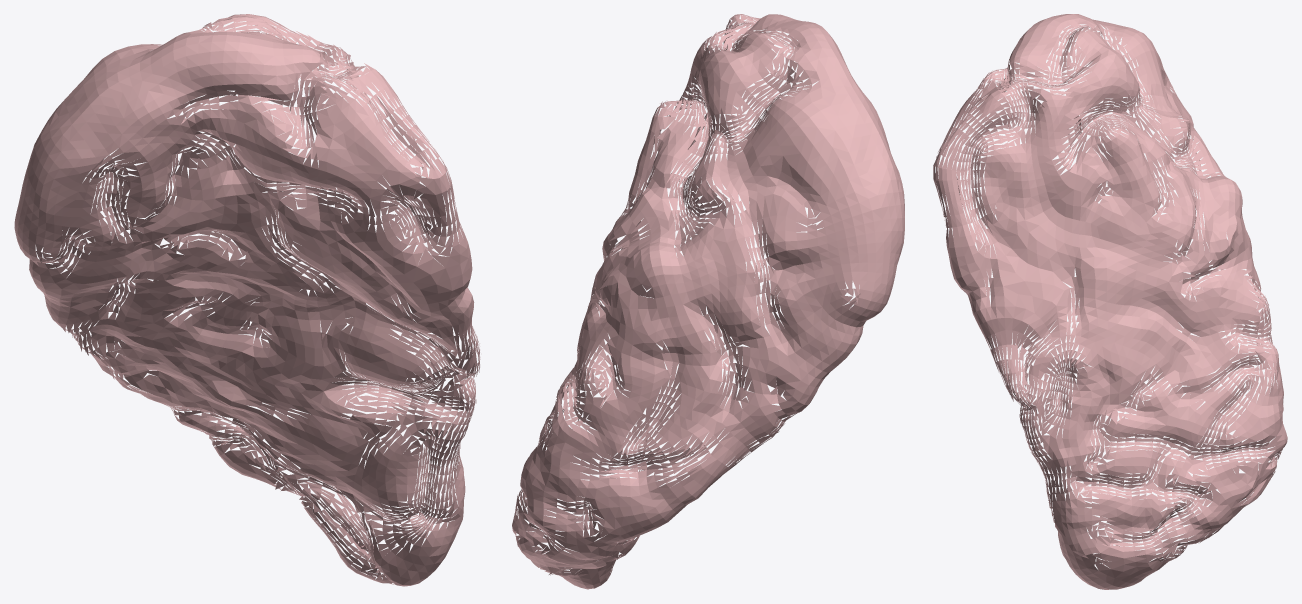
File: 3d-vh-f-palatine-tonsil-l_0.8.glb
3 views of the same model, side by side, from view 1: azimuth 30°, elevation 25°; view 2: azimuth 150°, elevation 25°; view 3: azimuth 270°, elevation 25° (orthographic). The views are drawn at different scales.
Visible parts, largest first — view 1: VH_F_palatine_tonsil_L; view 2: VH_F_palatine_tonsil_L; view 3: VH_F_palatine_tonsil_L.
Boxes of the visible parts, x1=… form: VH_F_palatine_tonsil_L: x1=14, y1=14, x2=480, y2=586; VH_F_palatine_tonsil_L: x1=512, y1=14, x2=904, y2=589; VH_F_palatine_tonsil_L: x1=933, y1=14, x2=1287, y2=589.
Bounding box in the file's own units: 0.0163 × 0.0243 × 0.0159.
